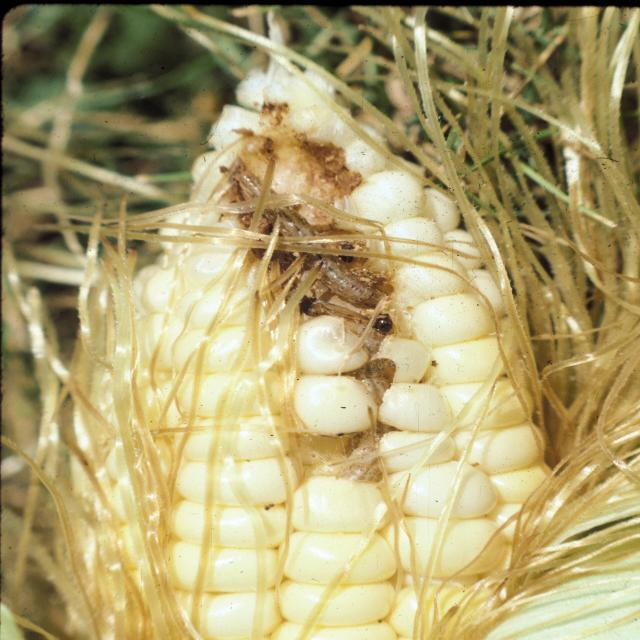cornborer-Larva-: (226, 152, 402, 312)
